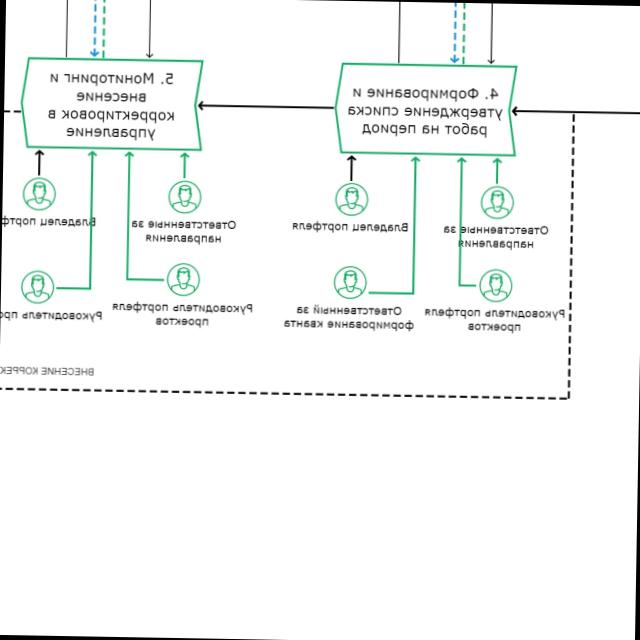arrow: (194, 98, 334, 114)
rectangle: (332, 60, 519, 158), (19, 54, 206, 151)
text_region: (424, 304, 566, 332), (282, 302, 414, 331), (111, 300, 253, 326), (442, 221, 550, 251), (130, 216, 236, 244), (290, 218, 410, 235)
